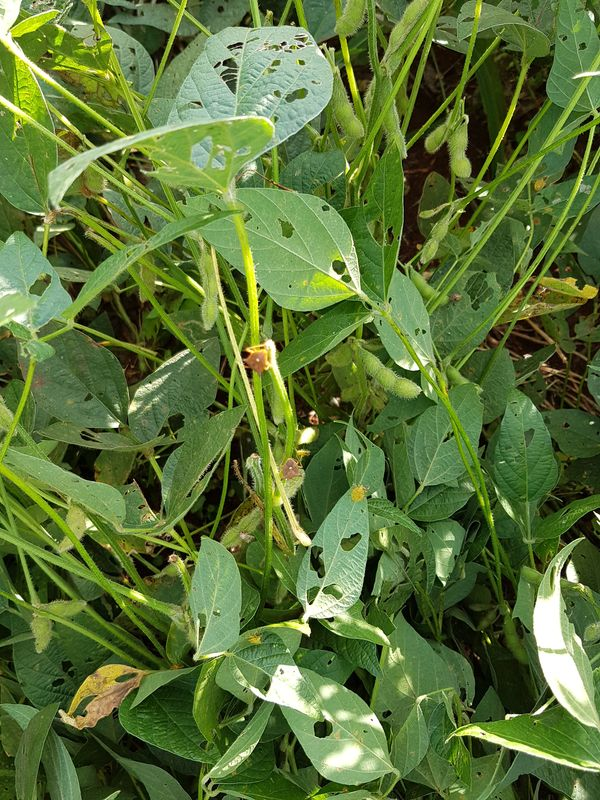Euschistus_heros_adulto: (231, 338, 278, 381), (276, 457, 306, 486)
Euschistus_heros_ninfa: (346, 481, 372, 507), (241, 629, 265, 650)
